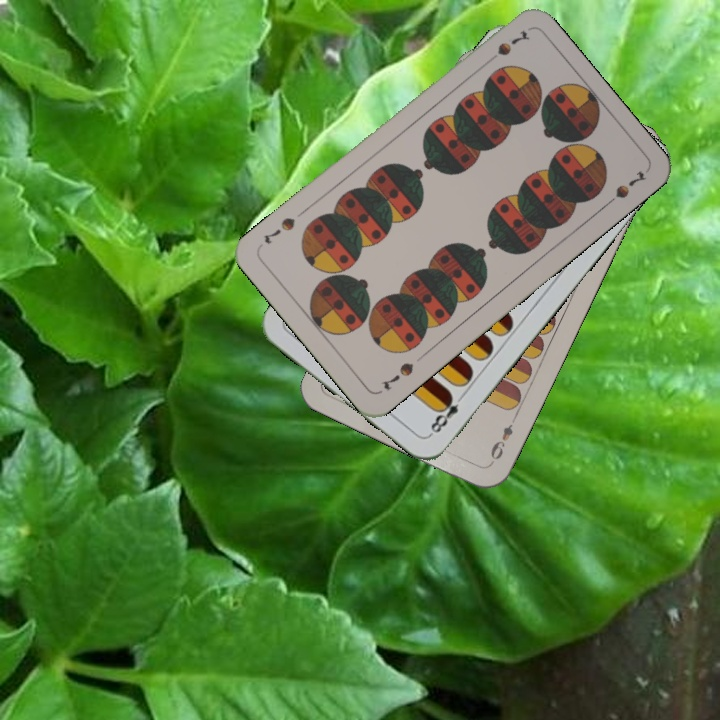E8: (426, 388, 469, 438)
E9: (486, 420, 516, 467)
S7: (480, 26, 532, 66), (376, 358, 416, 393)
